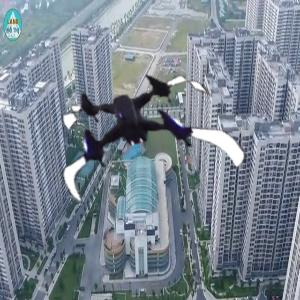drone: (46, 48, 226, 228)
